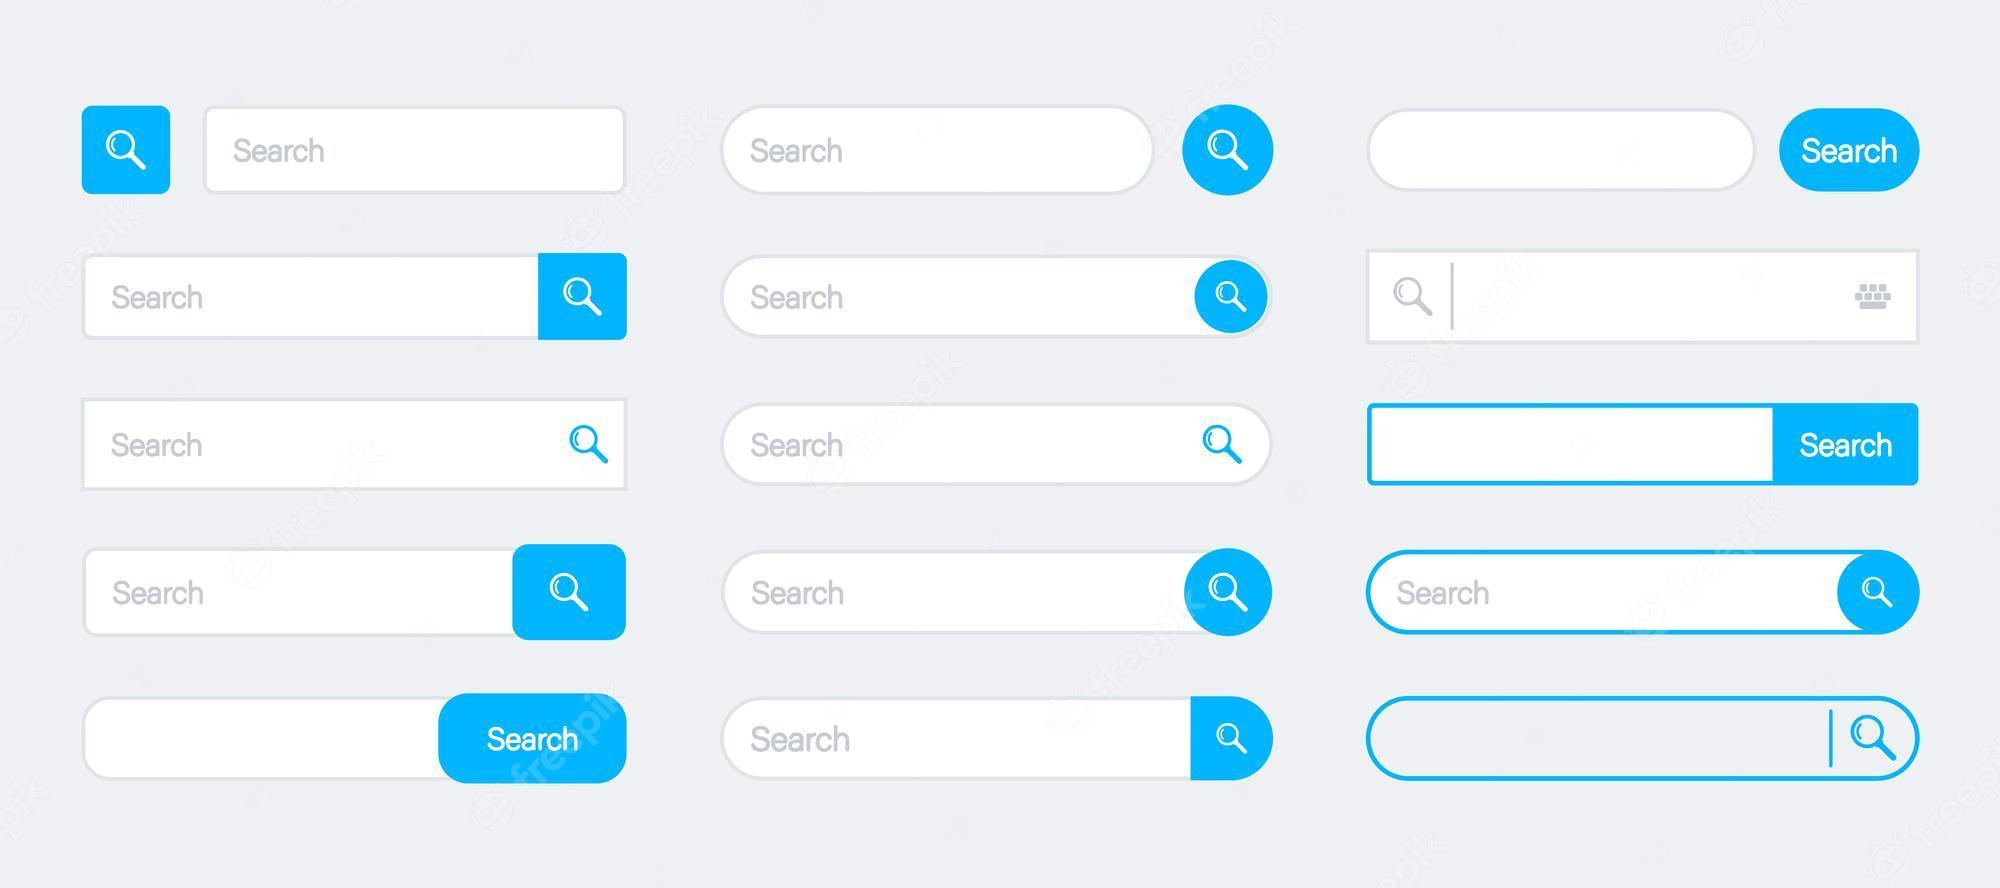button: (439, 695, 631, 785), (1778, 108, 1922, 198), (1776, 402, 1923, 485)
icon: (1842, 709, 1906, 768), (1386, 270, 1440, 329), (1202, 572, 1258, 621), (566, 417, 615, 471), (1200, 413, 1245, 471), (546, 568, 596, 618), (102, 126, 151, 176), (1207, 717, 1255, 760), (1857, 572, 1902, 618), (1209, 129, 1253, 174), (1213, 276, 1256, 318)
input: (722, 538, 1278, 644), (1366, 245, 1923, 348), (79, 249, 633, 346), (1369, 693, 1921, 788), (717, 396, 1272, 490), (82, 545, 628, 640), (1369, 544, 1921, 638), (82, 397, 625, 492), (724, 253, 1276, 342), (724, 697, 1276, 786), (716, 103, 1157, 202), (203, 105, 626, 191), (1369, 107, 1761, 196), (1370, 404, 1776, 485), (87, 699, 437, 780)
